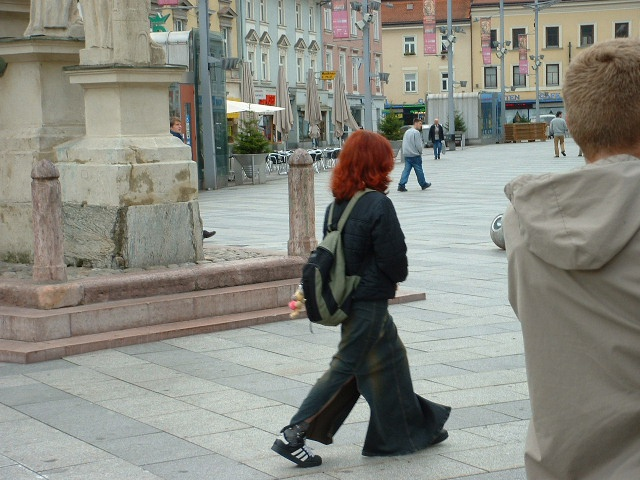person: (268, 123, 452, 466)
